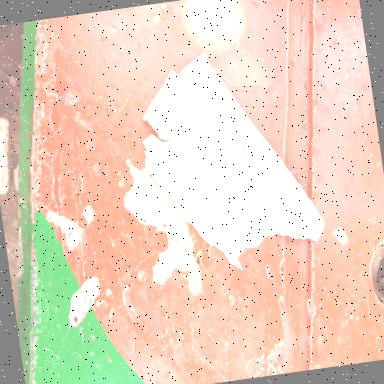pbw: (240, 134, 246, 152)
